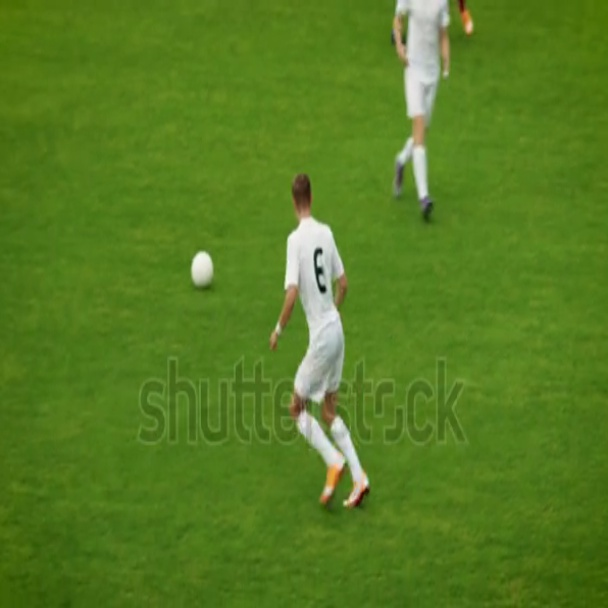ball: (194, 250, 211, 279)
